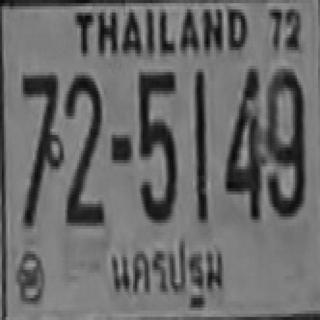N01: (193, 71, 206, 221)
N02: (63, 72, 101, 223)
N04: (224, 66, 260, 216)
N05: (137, 69, 176, 220)
N07: (21, 72, 58, 223)
N09: (265, 66, 304, 213)
P28: (103, 243, 233, 312)
